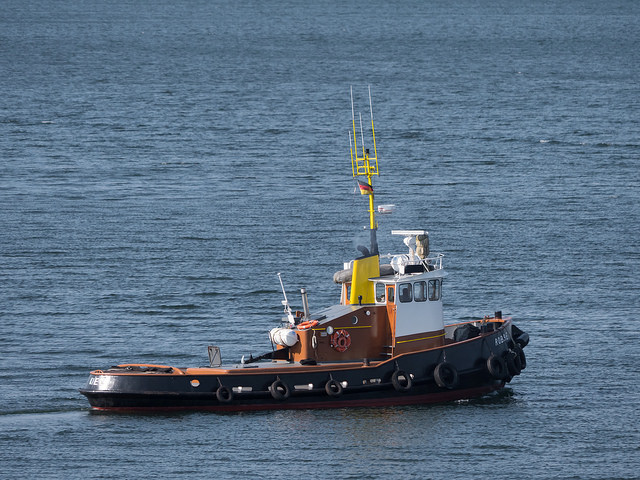tug_boat: (82, 106, 535, 422)
